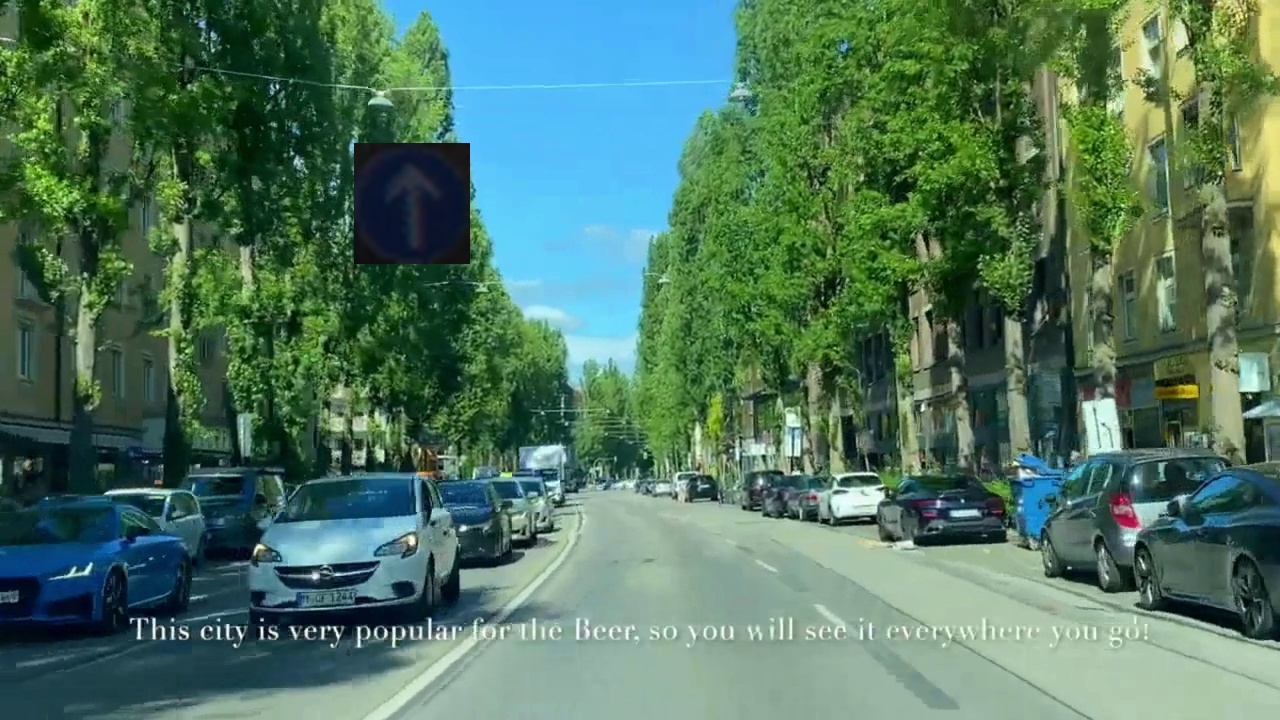Ahead only: (354, 143, 470, 264)
